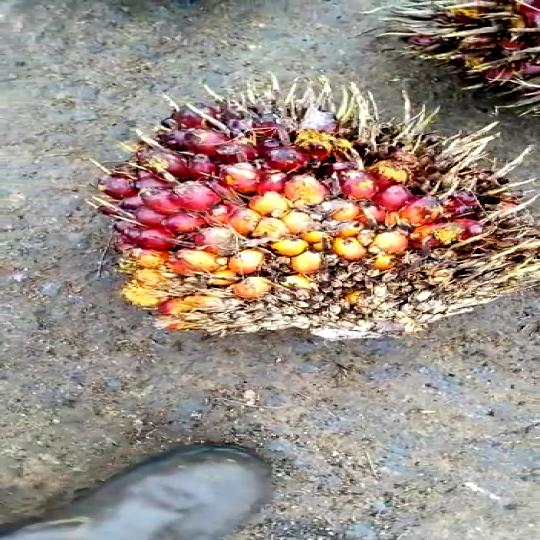masak: (92, 79, 540, 339)
